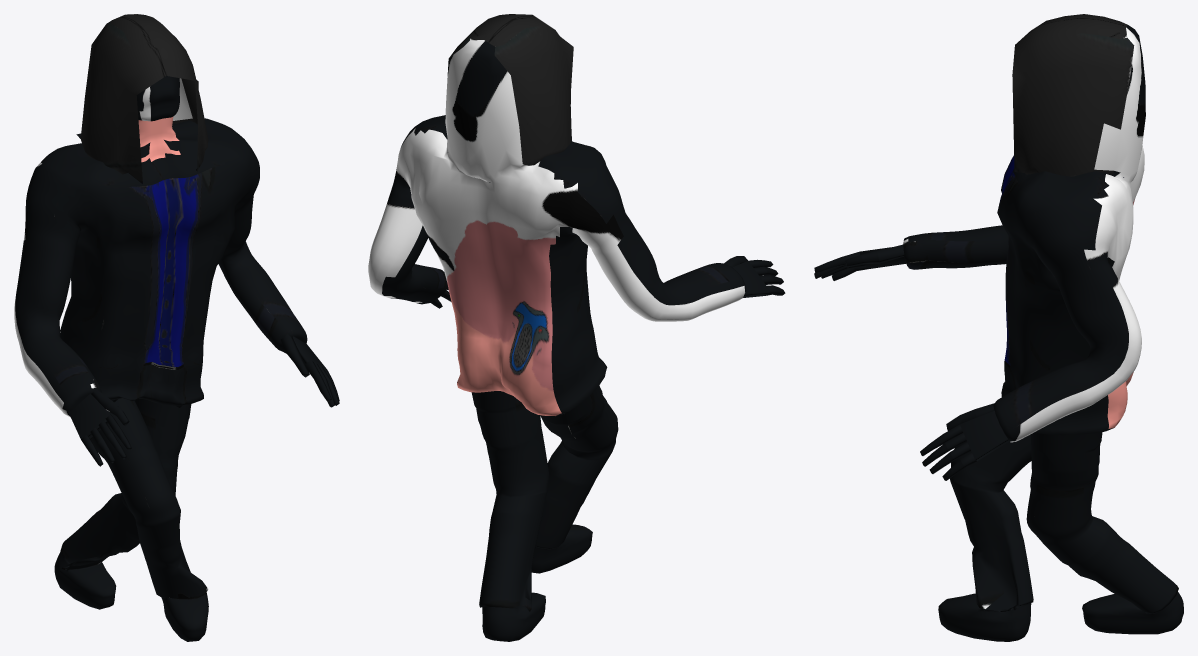
The model's file is keyFrame04.obj.
The picture shows the model from 3 angles, left to right: view 1: azimuth 30°, elevation 25°; view 2: azimuth 150°, elevation 25°; view 3: azimuth 270°, elevation 25°; orthographic projection. The views are drawn at different scales.
Visible parts, largest first — view 1: pasted__polySurface71 group4; view 2: pasted__polySurface71 group4; view 3: pasted__polySurface71 group4.
Boxes of the visible parts, x1=… form: pasted__polySurface71 group4: x1=14, y1=14, x2=339, y2=641; pasted__polySurface71 group4: x1=368, y1=14, x2=785, y2=641; pasted__polySurface71 group4: x1=814, y1=14, x2=1183, y2=641.
Size of the model in its own units: 6.6 by 12.36 by 6.61.
1 material, 1 textured.
